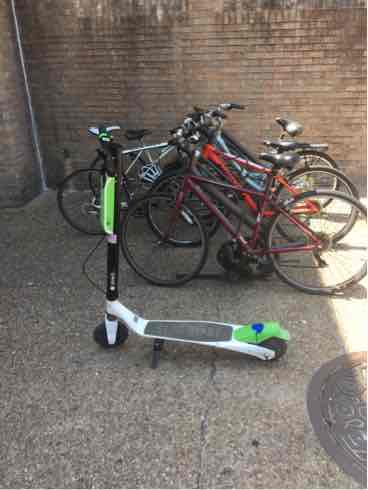scooter: (71, 104, 300, 371)
